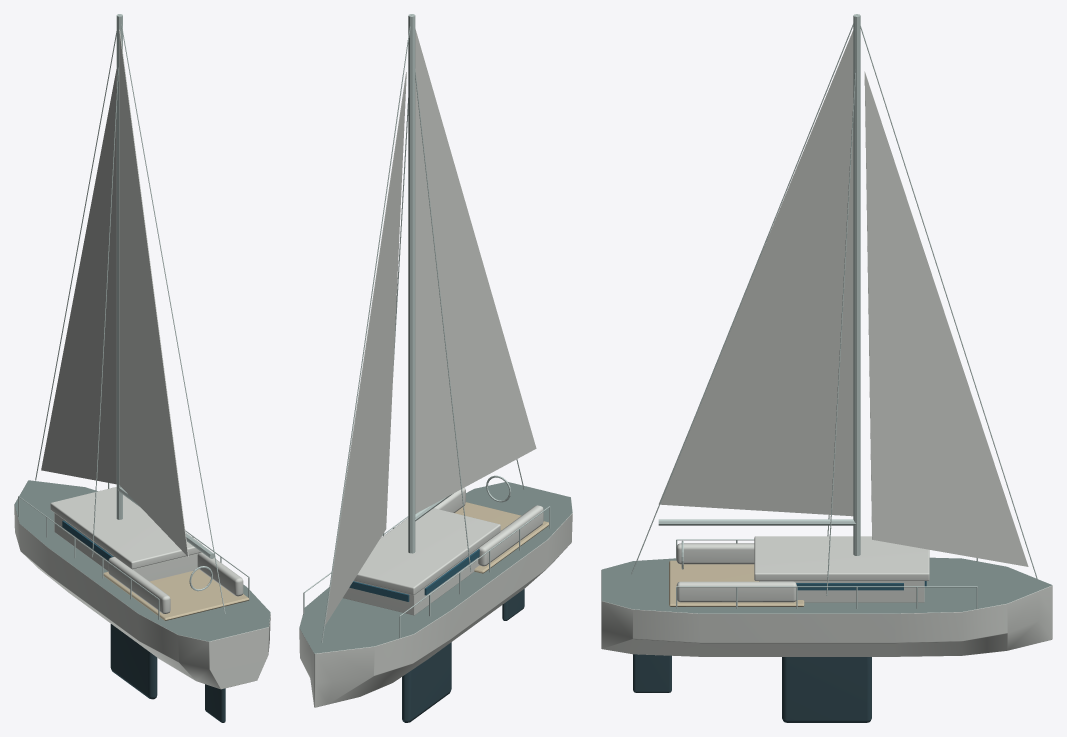
The model's file is sailing-yacht.glb.
The picture shows the model from 3 angles, left to right: view 1: azimuth 30°, elevation 25°; view 2: azimuth 150°, elevation 25°; view 3: azimuth 270°, elevation 25°; orthographic projection. The views are drawn at different scales.
Parts seen in each view (by area): view 1: sailing-yacht; view 2: sailing-yacht; view 3: sailing-yacht.
Part boxes in pixels (x1=…): sailing-yacht: x1=14, y1=14, x2=270, y2=722; sailing-yacht: x1=299, y1=14, x2=572, y2=722; sailing-yacht: x1=601, y1=14, x2=1052, y2=722.
Size of the model in its own units: 4.49 by 25.96 by 15.
